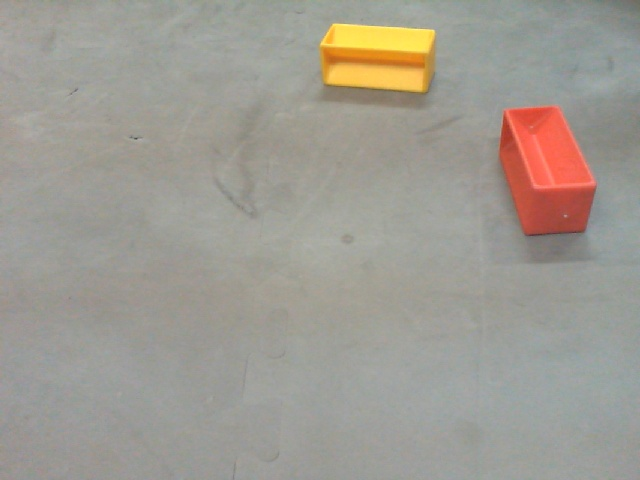RedSample: (496, 105, 601, 241)
YellowSample: (319, 21, 438, 98)
